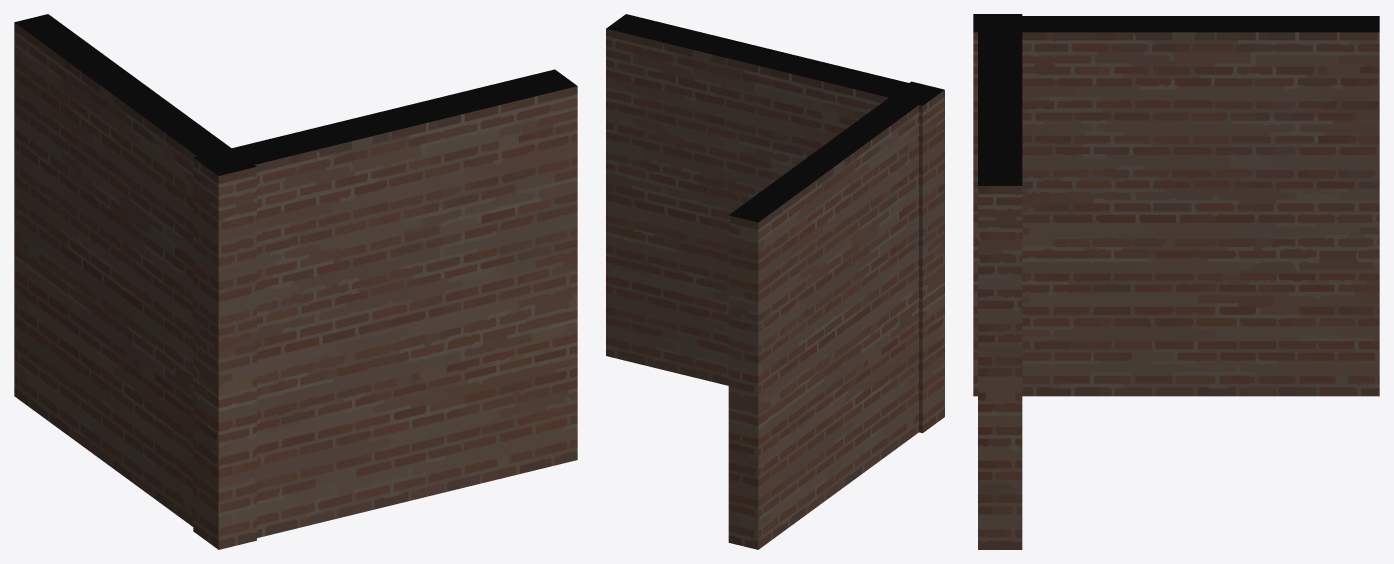
File: Mur modulaire en coin.fbx
3 views of the same model, side by side, from view 1: azimuth 30°, elevation 25°; view 2: azimuth 150°, elevation 25°; view 3: azimuth 270°, elevation 25° (orthographic). The views are drawn at different scales.
Visible parts, largest first — view 1: unwr; view 2: unwr; view 3: unwr.
Boxes of the visible parts, box(x1,y1,x2,y2) form: unwr: box(14, 14, 577, 549); unwr: box(606, 14, 944, 549); unwr: box(973, 14, 1379, 549).
Size of the model in its own units: 304 by 300 by 304.
